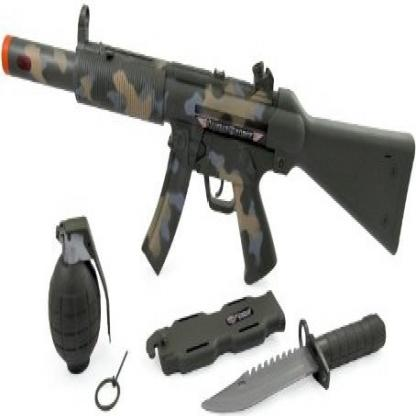Grenade: (48, 212, 112, 378)
Gun: (0, 4, 416, 286)
Knife: (200, 310, 387, 416)
